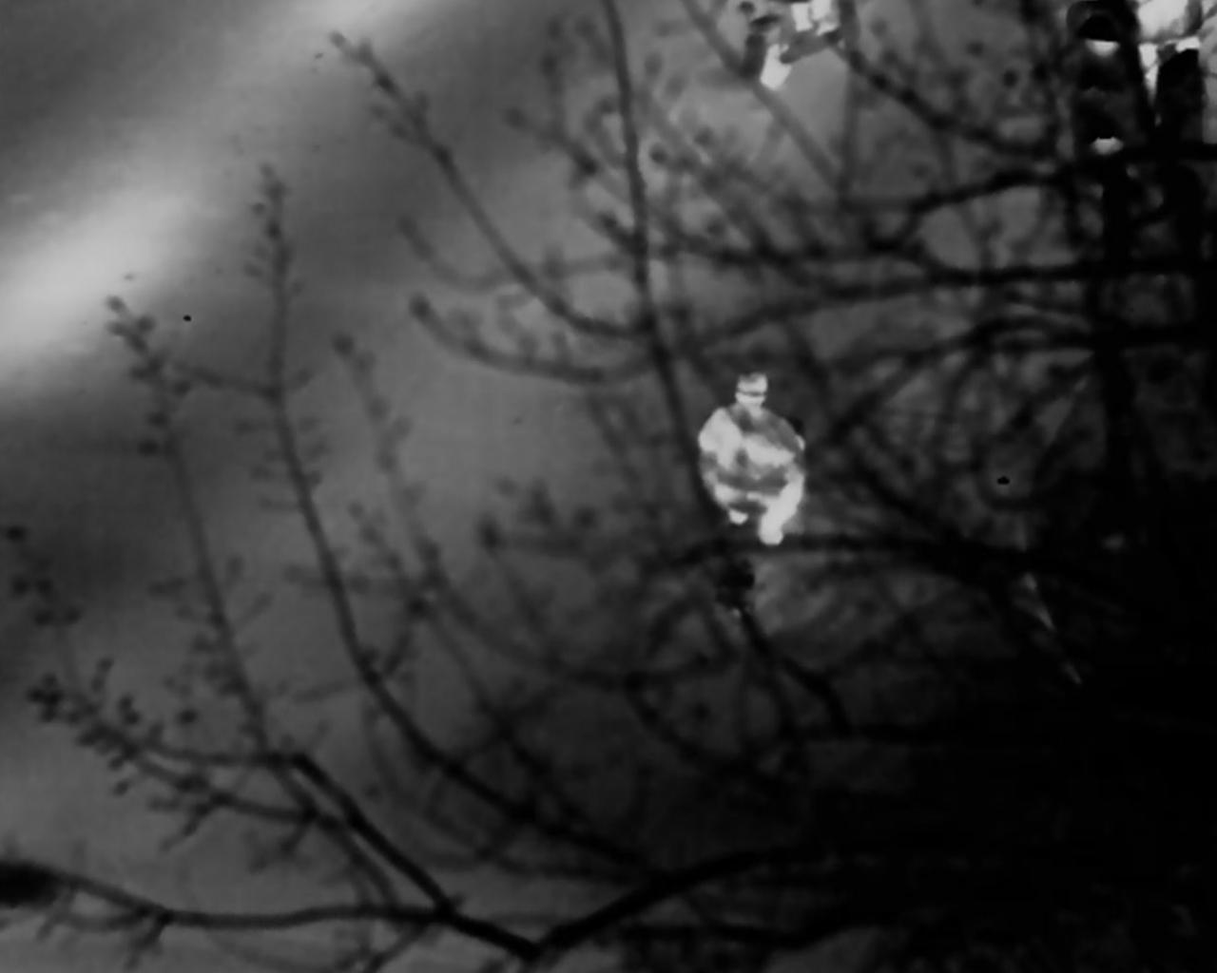person: (700, 367, 814, 562)
